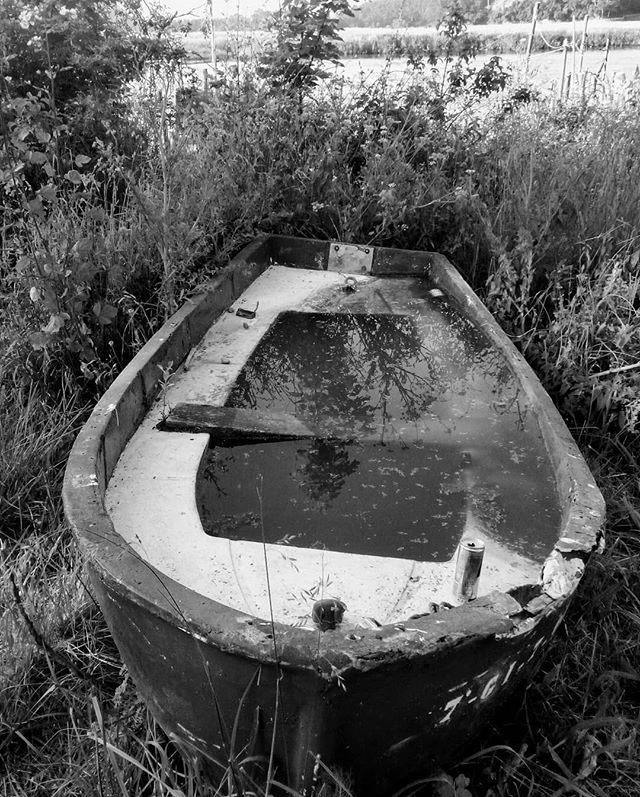boat: (70, 214, 583, 765)
vegetation: (1, 1, 640, 285)
